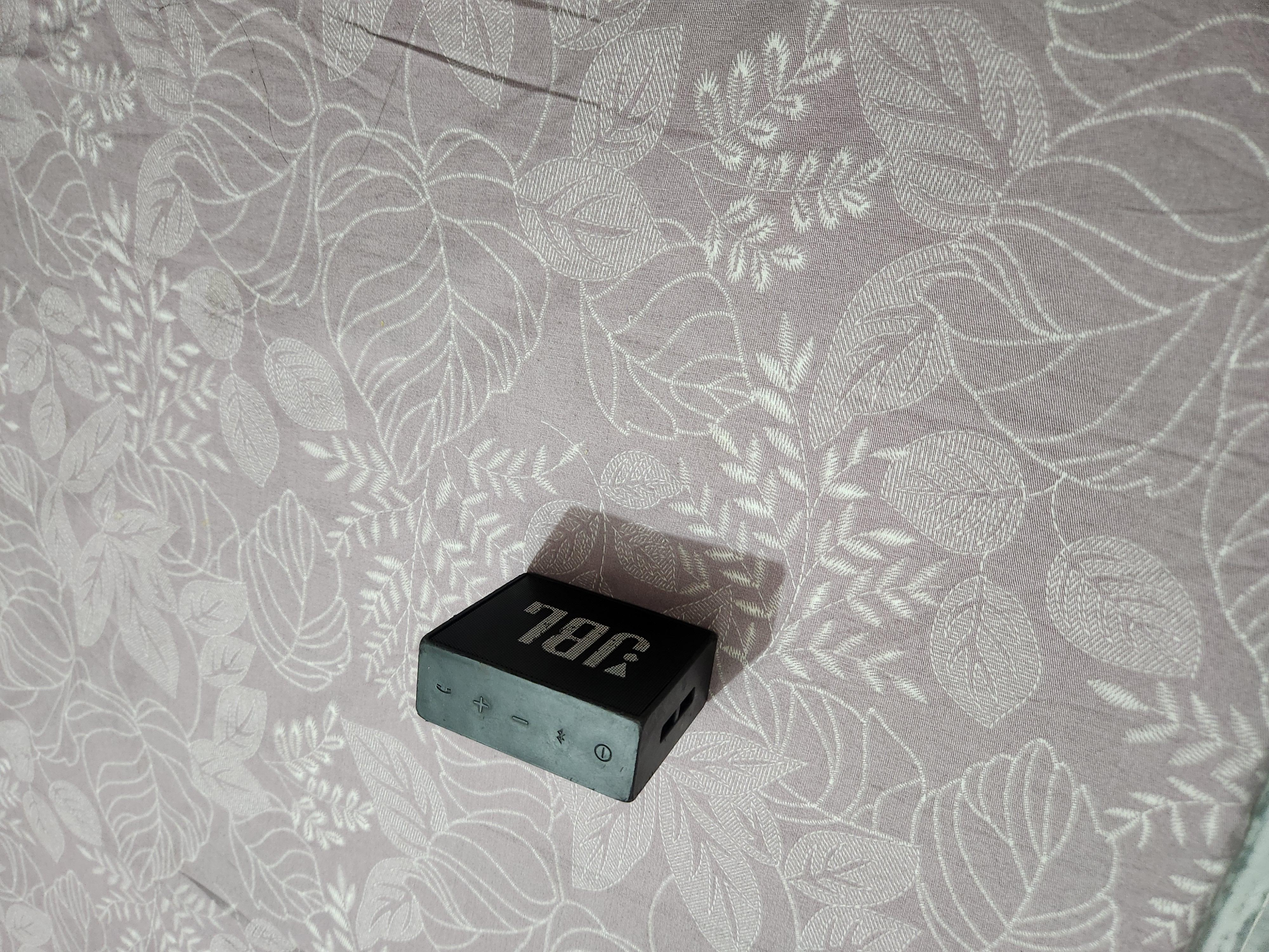speaker: (198, 309, 513, 539)
